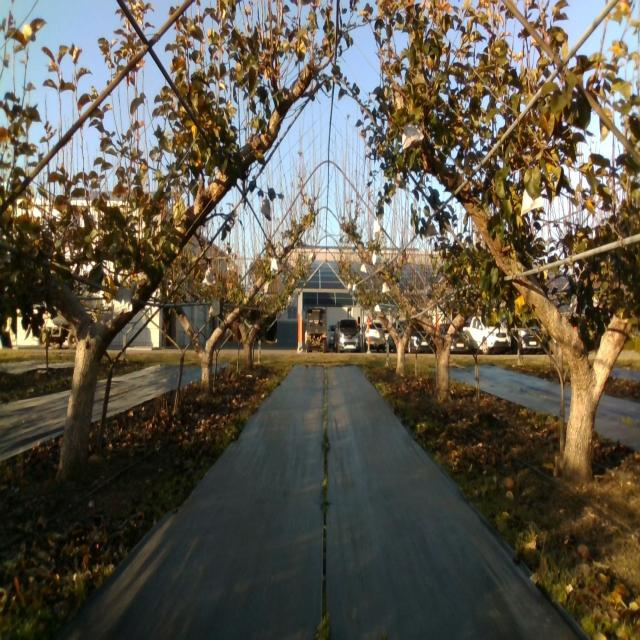pearbags: (112, 286, 133, 322), (520, 186, 543, 216), (402, 124, 425, 153), (202, 260, 216, 288), (261, 196, 272, 220)
